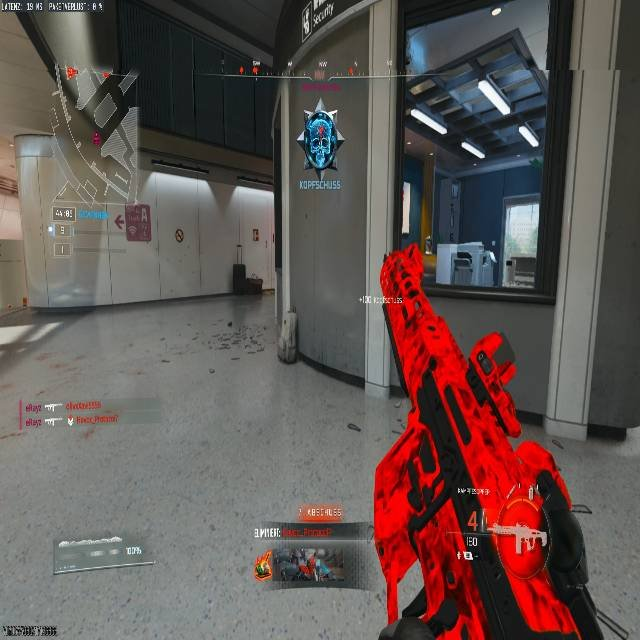player: (301, 99, 344, 178), (114, 213, 124, 230)
